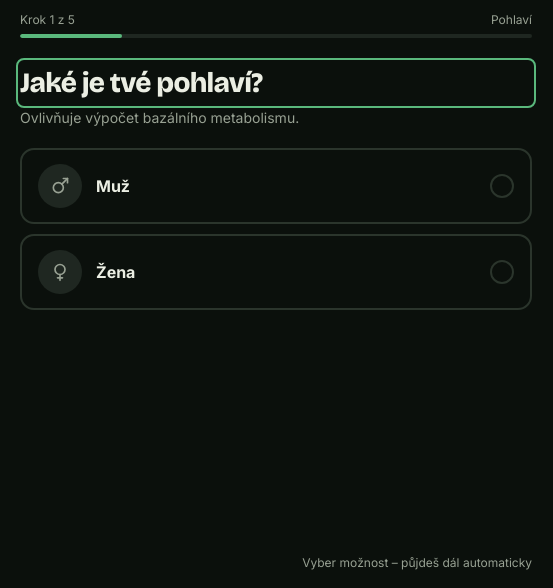
Test: Cílový průvodce › krok Zpět se vrátí na předchozí otázku
Click the radio button labelled "Muž" at (60, 186), box [20, 148, 532, 224]
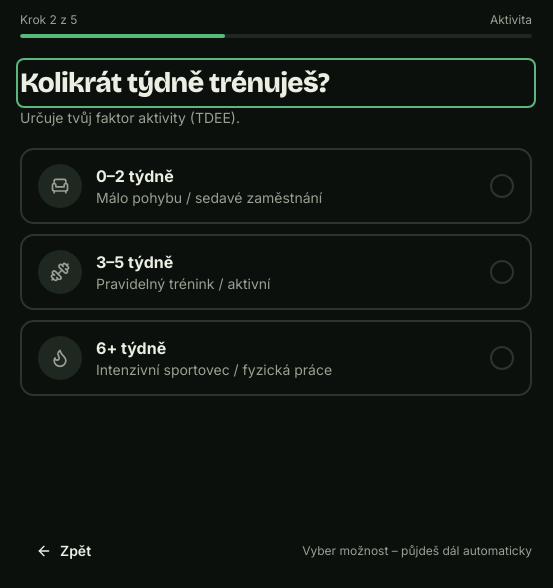
Now the heading "Kolikrát týdně trénuješ?" is shown, box [20, 66, 329, 100]
Click the button "Zpět" at (64, 551), box [20, 531, 107, 571]
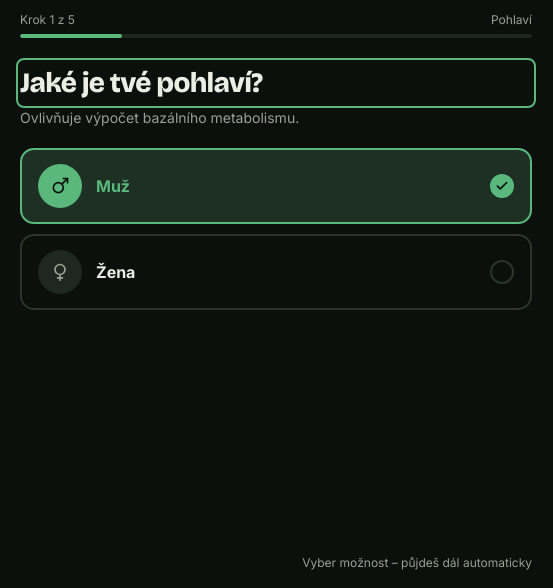
Now the heading "Jaké je tvé pohlaví?" is shown, box [20, 66, 262, 100]
